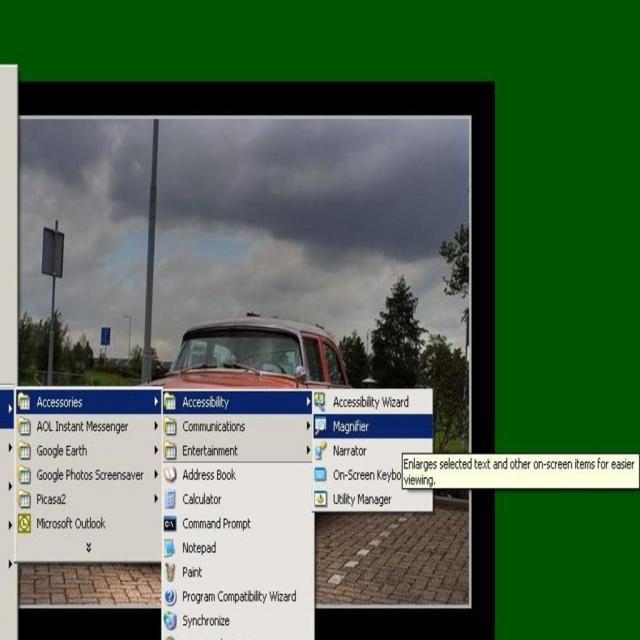other: (156, 321, 348, 388)
